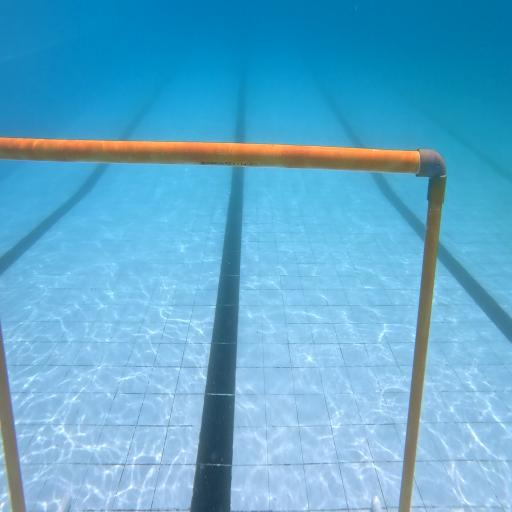gate: (0, 137, 446, 512)
